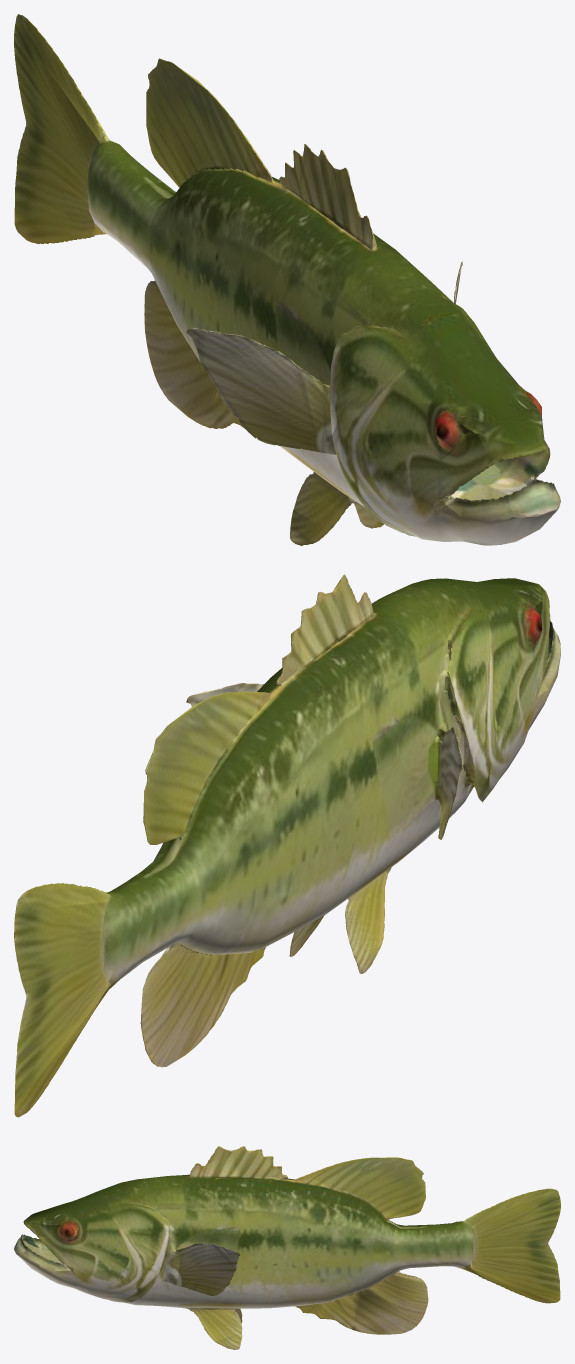
Rendered from lmbass.glb.
The picture shows the model from 3 angles, top to bottom: view 1: azimuth 30°, elevation 25°; view 2: azimuth 150°, elevation 25°; view 3: azimuth 270°, elevation 25°; orthographic projection. The views are drawn at different scales.
Visible parts, largest first — view 1: model_0; view 2: model_0; view 3: model_0.
Part boxes in pixels (x1,y1,x2,y2): model_0: [14, 14, 560, 545]; model_0: [14, 574, 560, 1117]; model_0: [14, 1146, 560, 1349].
Bounding box in the file's own units: 0.5723 × 0.7471 × 1.9.
1 material, 1 textured.
